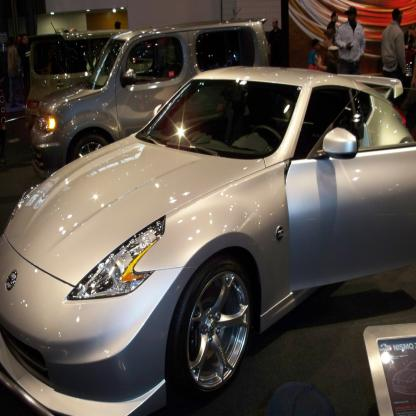Car: (1, 67, 416, 416), (31, 19, 271, 180), (31, 22, 130, 122), (1, 93, 25, 166)
